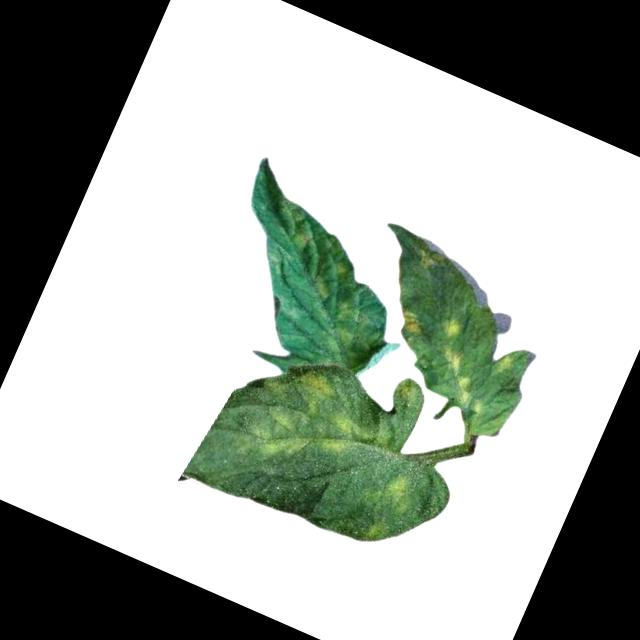Leaf_Mold: (236, 355, 383, 492), (310, 297, 391, 384), (279, 224, 362, 305), (349, 463, 422, 549), (448, 373, 491, 414), (398, 307, 431, 339), (439, 344, 469, 374), (417, 242, 449, 270), (438, 312, 465, 342), (492, 349, 518, 378)
